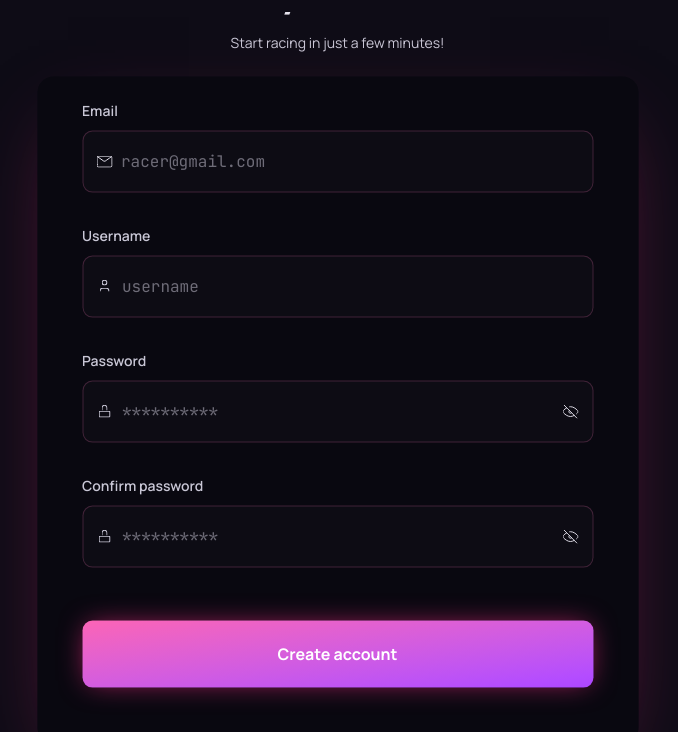
Test: App › registers a user and shows the verification pending state
Type "player@example.com" into the field labelled "Email" at coordinates (350, 162), box left=121, top=150, right=578, bottom=174
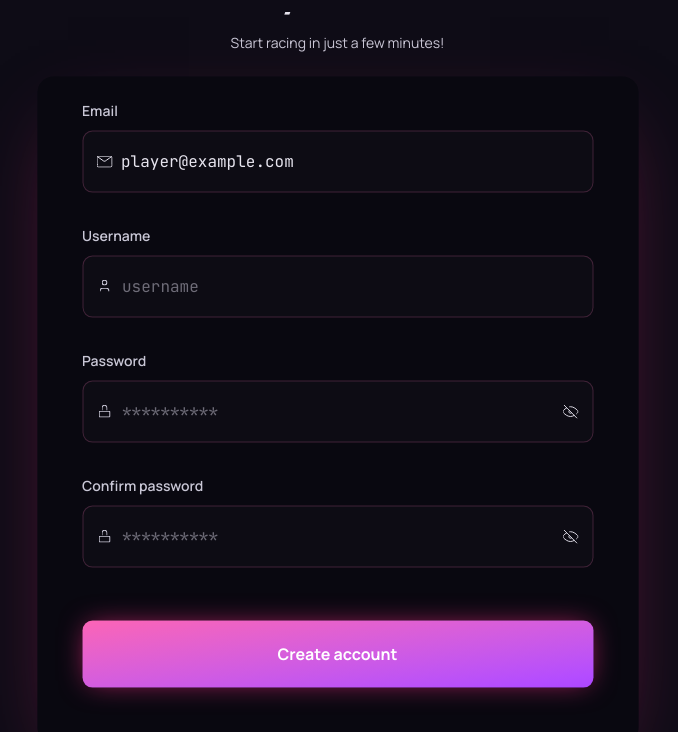
Type "player" into the field labelled "Username" at coordinates (350, 286), box left=122, top=274, right=578, bottom=298
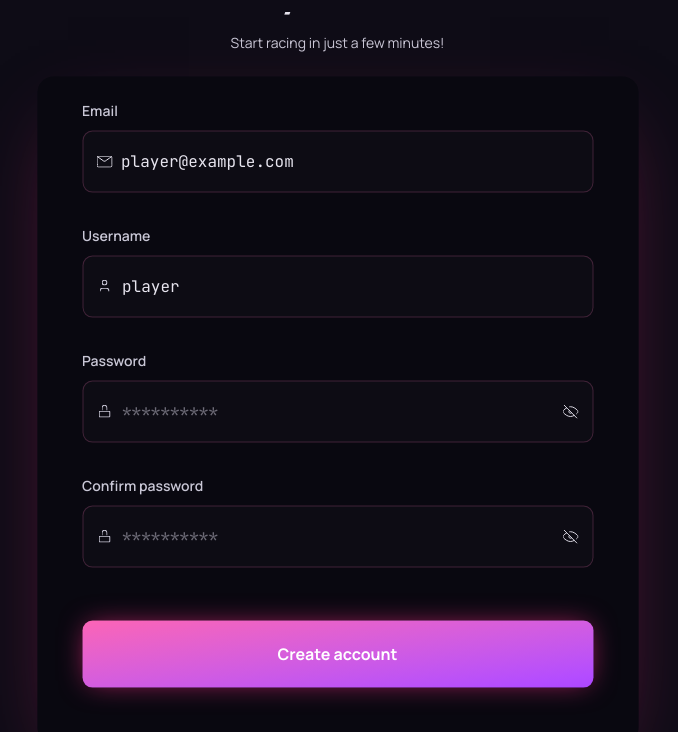
Type "StrongerPass123" into the password field labelled "Password" at coordinates (338, 412), box left=122, top=400, right=553, bottom=424
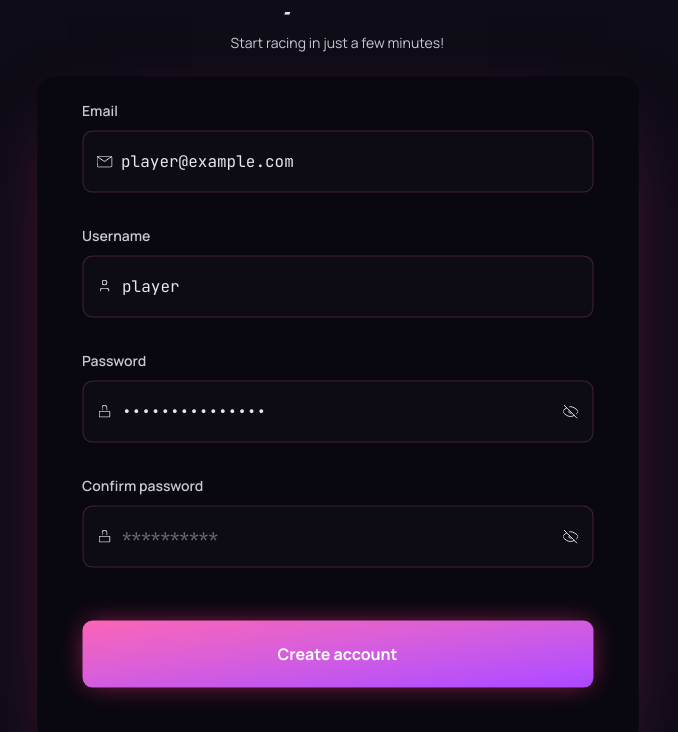
Type "StrongerPass123" into the password field labelled "Confirm password" at coordinates (338, 536), box left=122, top=524, right=553, bottom=548
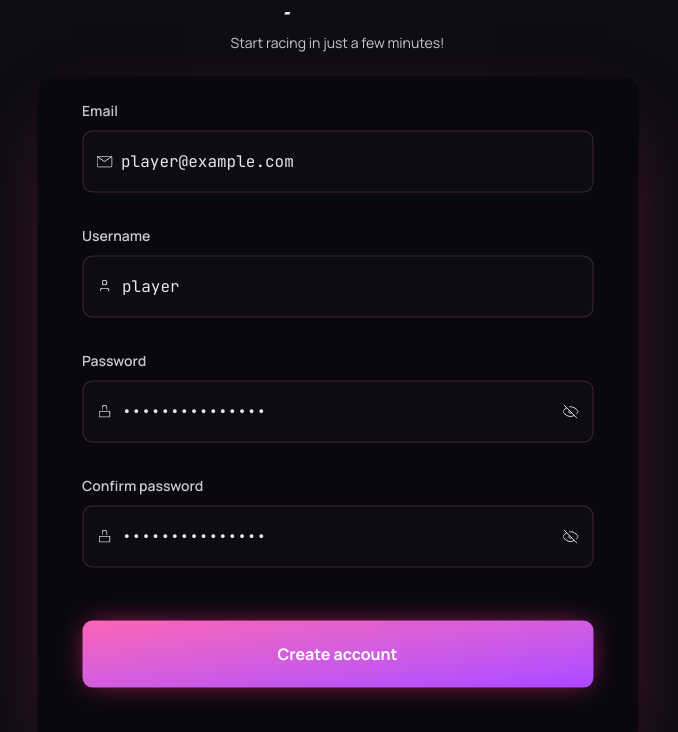
Click the button "Create account" at coordinates (338, 654), box left=82, top=620, right=593, bottom=688
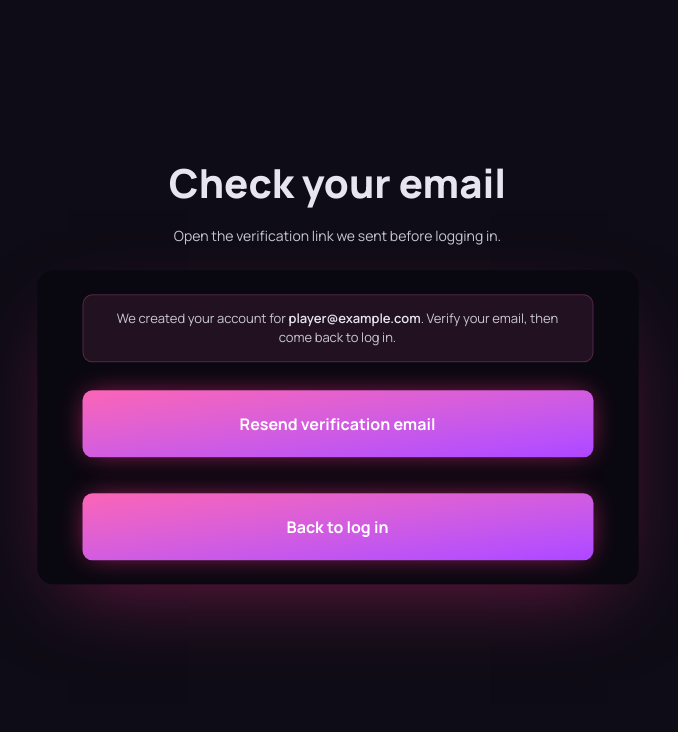
expect the heading "Check your email" is shown: met, box left=169, top=159, right=506, bottom=207
expect the text "player@example.com" is shown: met, box left=288, top=310, right=421, bottom=328
